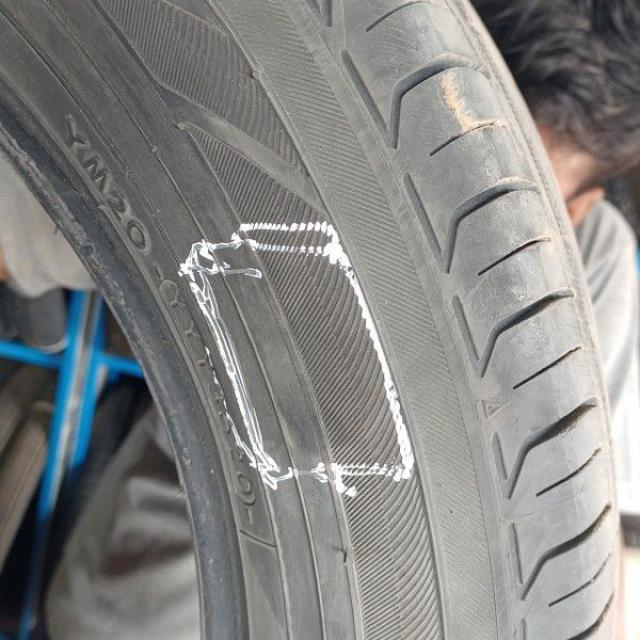Bulge: (254, 298, 364, 464)
